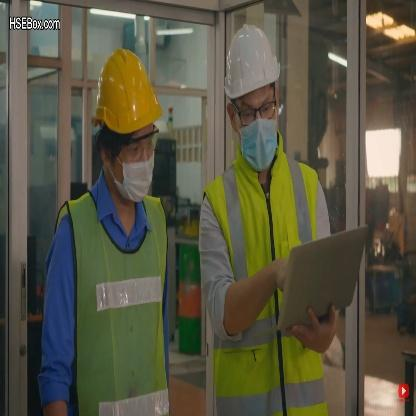helmet: (216, 17, 290, 181), (89, 40, 162, 206)
